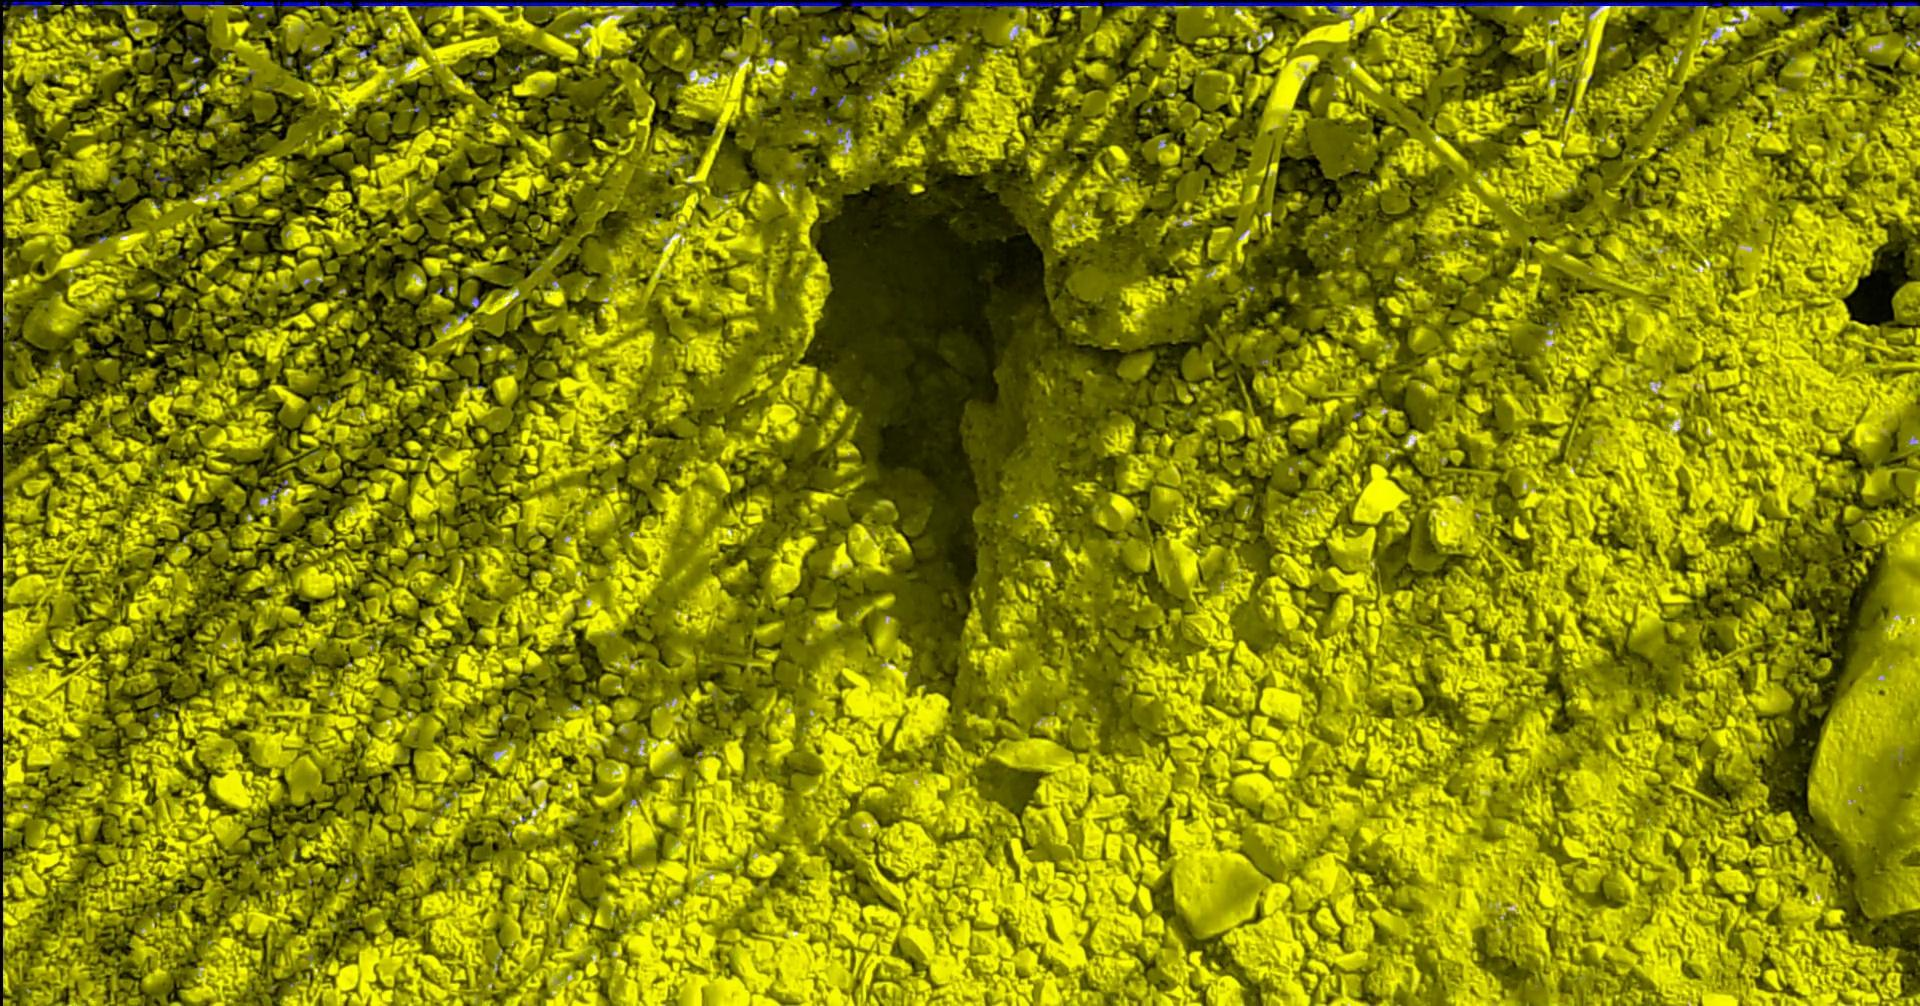ant: (4, 0, 55, 20), (75, 0, 232, 6), (728, 0, 844, 6), (155, 170, 173, 185), (684, 0, 717, 6)
